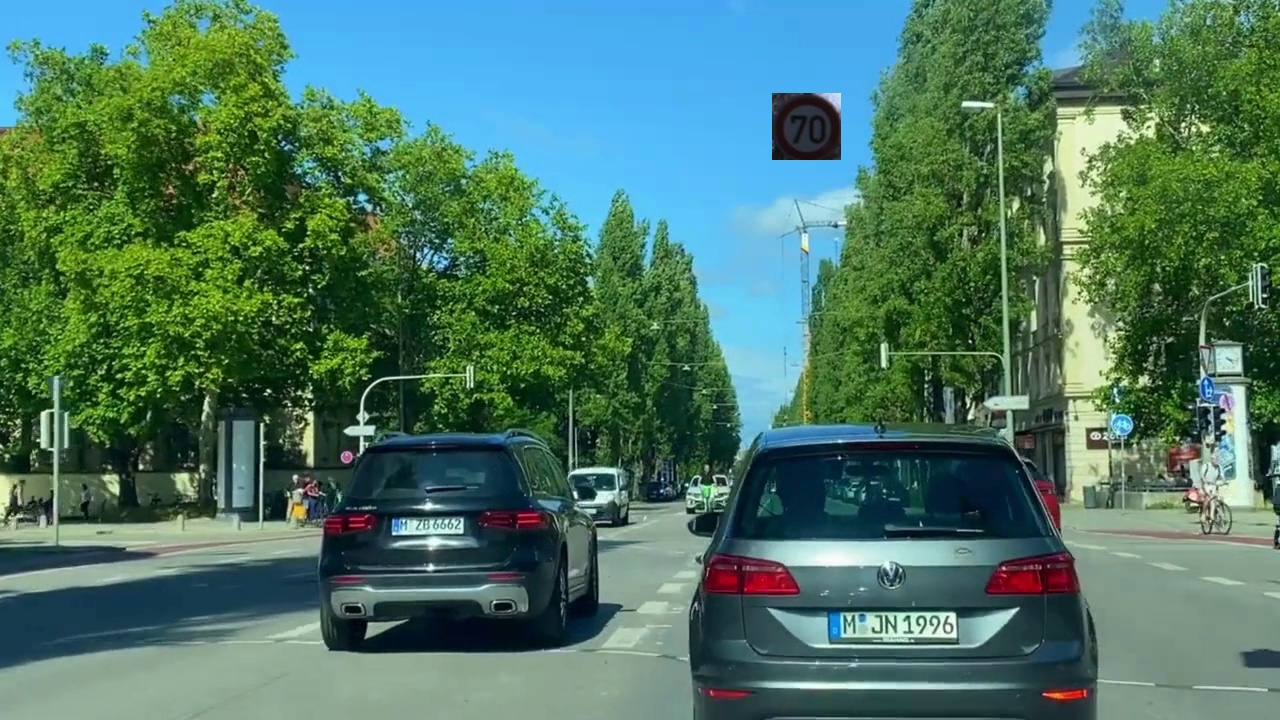Speed 70: (772, 93, 841, 160)
